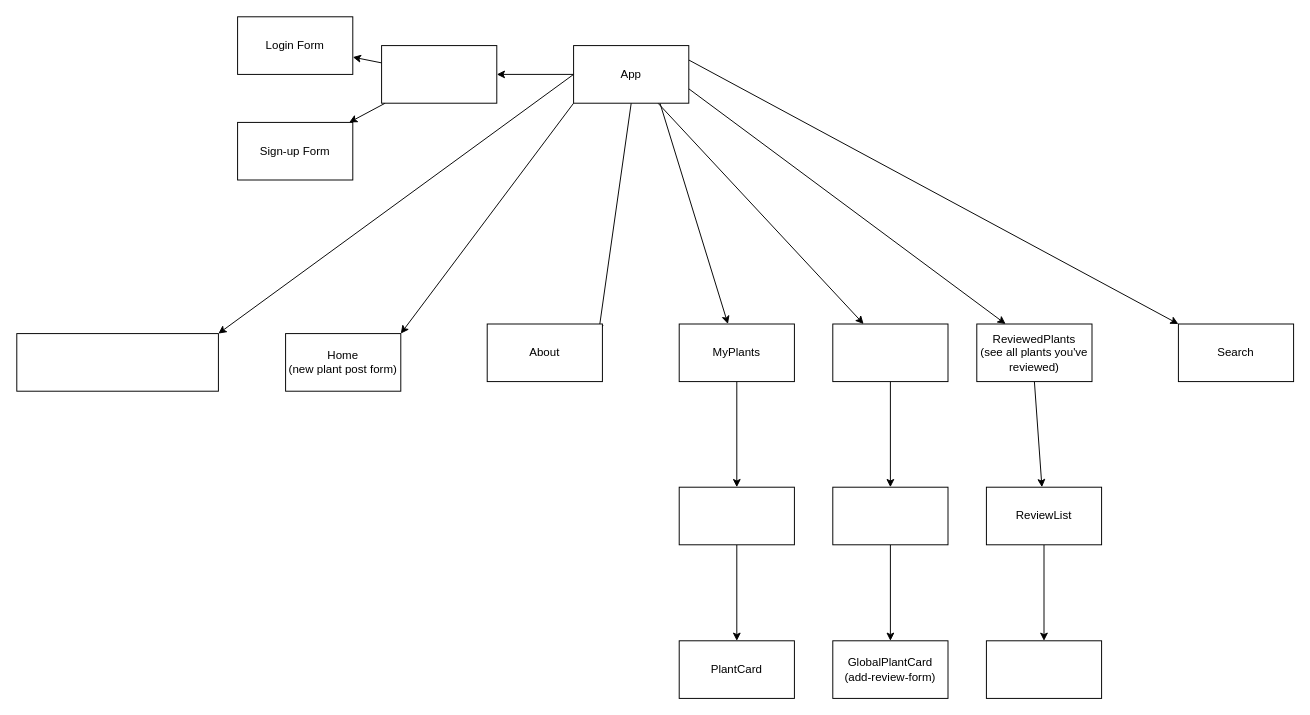
Image size: 1310x715. Some labels were removed from this diagram. Each missing label, with the box of its shape:
GlobalPlants: (832, 323, 948, 382)
GlobalPlants List: (832, 486, 948, 545)
LoginContainer: (381, 45, 497, 103)
NavBar Home, About, MyPlants, GlobalPlants, MyReviews: (16, 333, 218, 391)
PlantList: (678, 486, 794, 545)
ReviewCard: (985, 640, 1102, 698)
